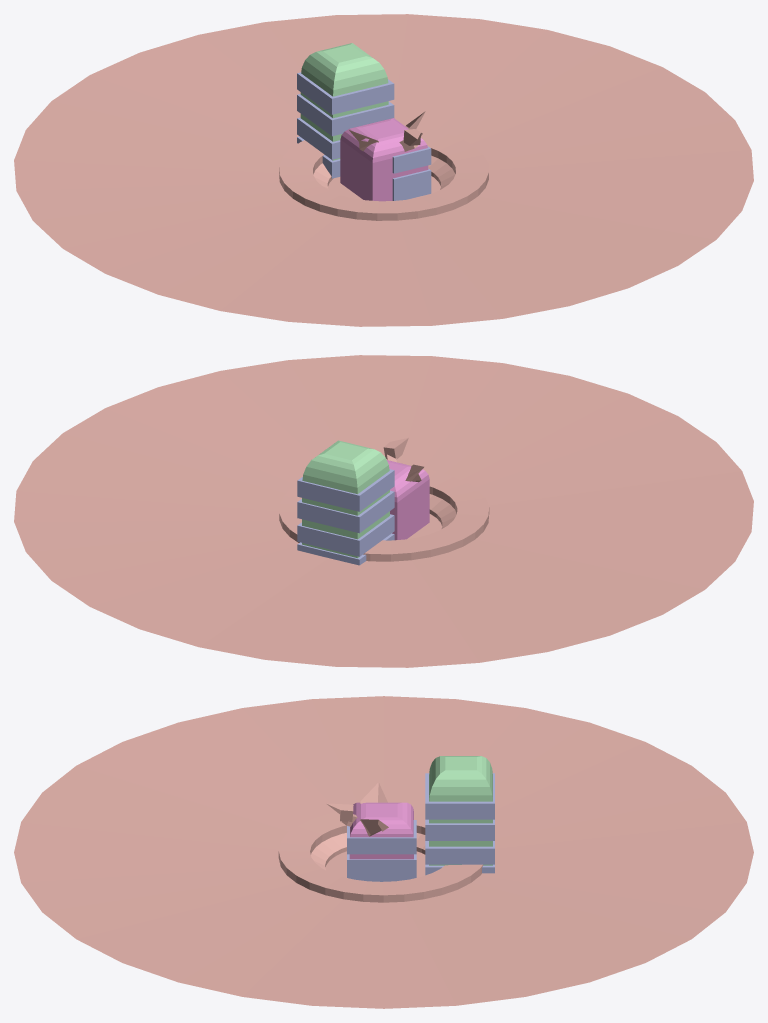
Rendered from BTBuilding2.fbx.
3 renders of one model, top to bottom at view 1: azimuth 30°, elevation 25°; view 2: azimuth 150°, elevation 25°; view 3: azimuth 270°, elevation 25°, orthographic.
Parts seen in each view (by area): view 1: Plane, BTBuilding3, BTBuilding2; view 2: Plane, BTBuilding3, BTBuilding2; view 3: Plane, BTBuilding3, BTBuilding2.
Boxes of the visible parts, bbox=[...] form: Plane: bbox=[14, 14, 753, 326]; BTBuilding3: bbox=[297, 43, 394, 178]; BTBuilding2: bbox=[340, 118, 431, 201]; Plane: bbox=[14, 355, 753, 667]; BTBuilding3: bbox=[297, 440, 394, 565]; BTBuilding2: bbox=[387, 460, 429, 540]; Plane: bbox=[14, 696, 753, 1008]; BTBuilding3: bbox=[425, 756, 494, 875]; BTBuilding2: bbox=[347, 802, 416, 881].
Bounding box in the file's own units: 11968 × 2017 × 11968.
